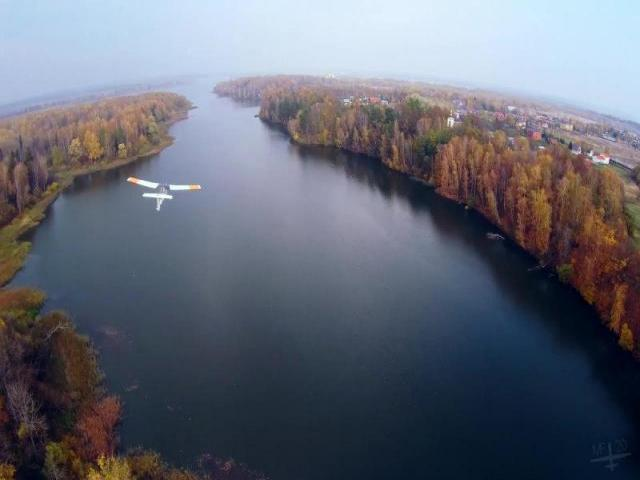hedef: (118, 171, 202, 215)
